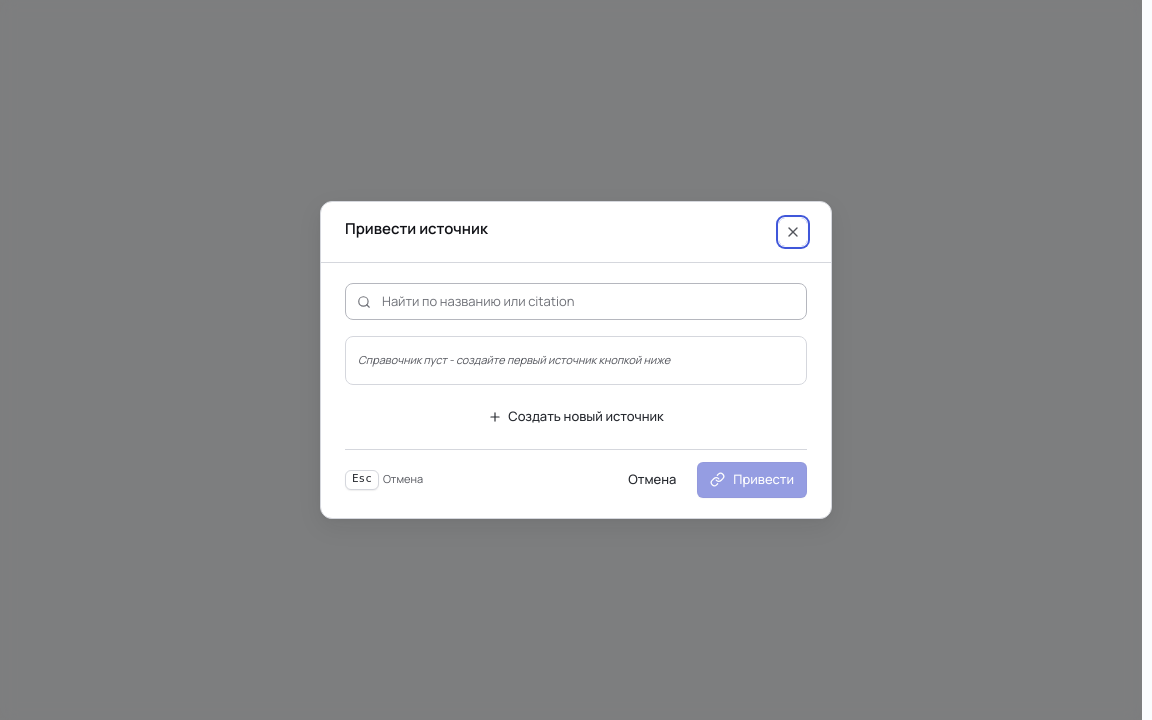
it: AddSourceModal › create-mode › reliability показывается только для типа HADITH
This screenshot has width=1152, height=720.
Expected: the text "Справочник пуст - создайте первый источник кнопкой ниже" is shown, [358,352,670,367]
Click the button "Создать новый источник" at (576, 417), box [345,401,807,433]
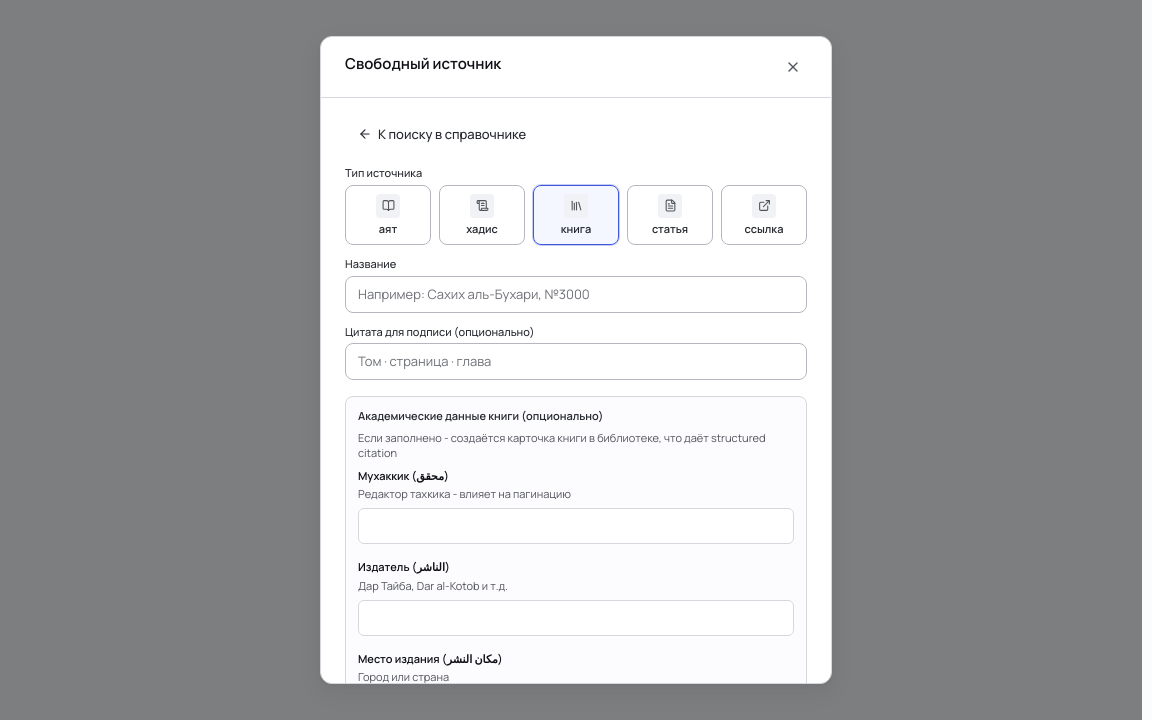
Expected: the text "Степень достоверности" is not shown
Переключаем на HADITH
Click the radio button labelled "хадис" at (482, 215), box [439,185,525,245]
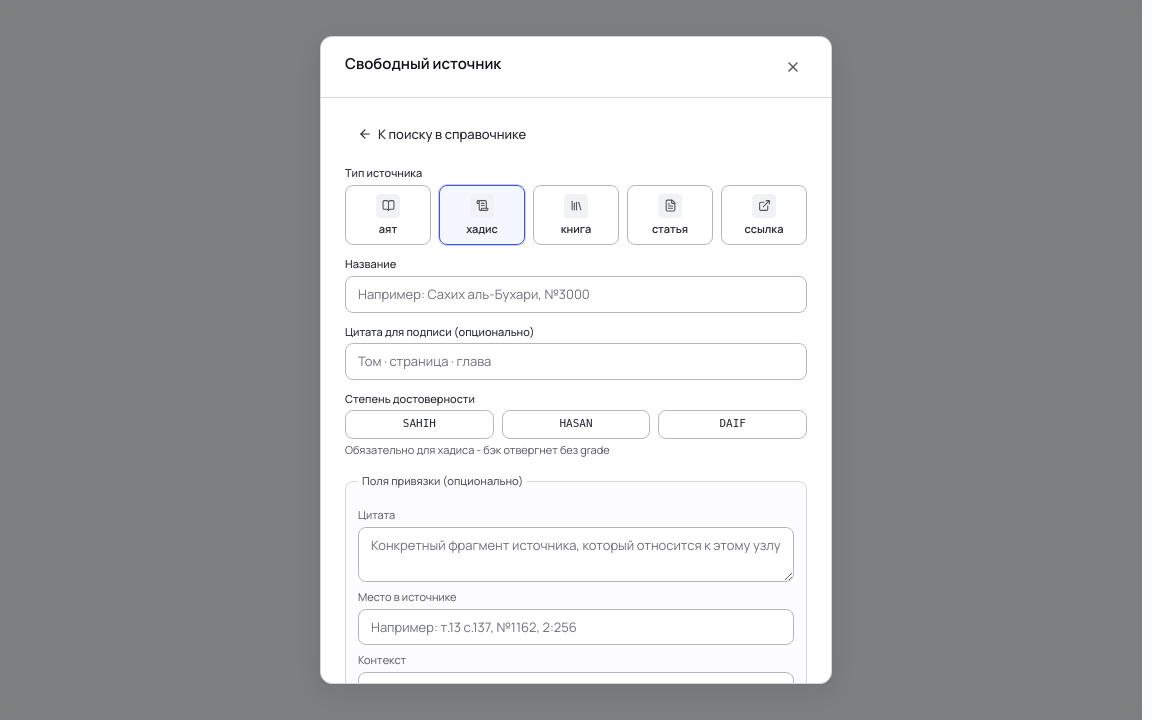
Expected: the text "Степень достоверности" is shown, [345,391,475,406]
Expected: the radio button labelled "SAHIH" is shown, [345,410,494,439]
